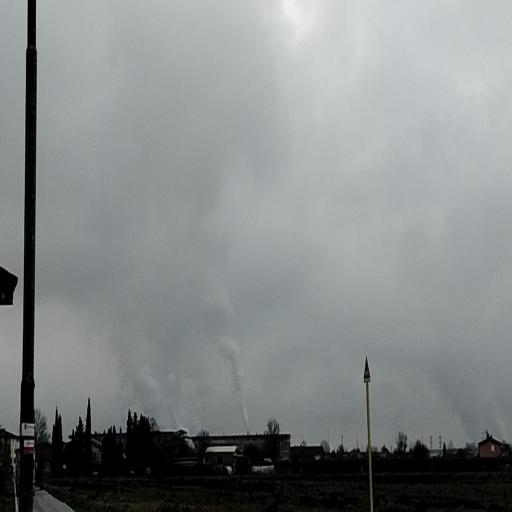leakage: (75, 204, 257, 460)
